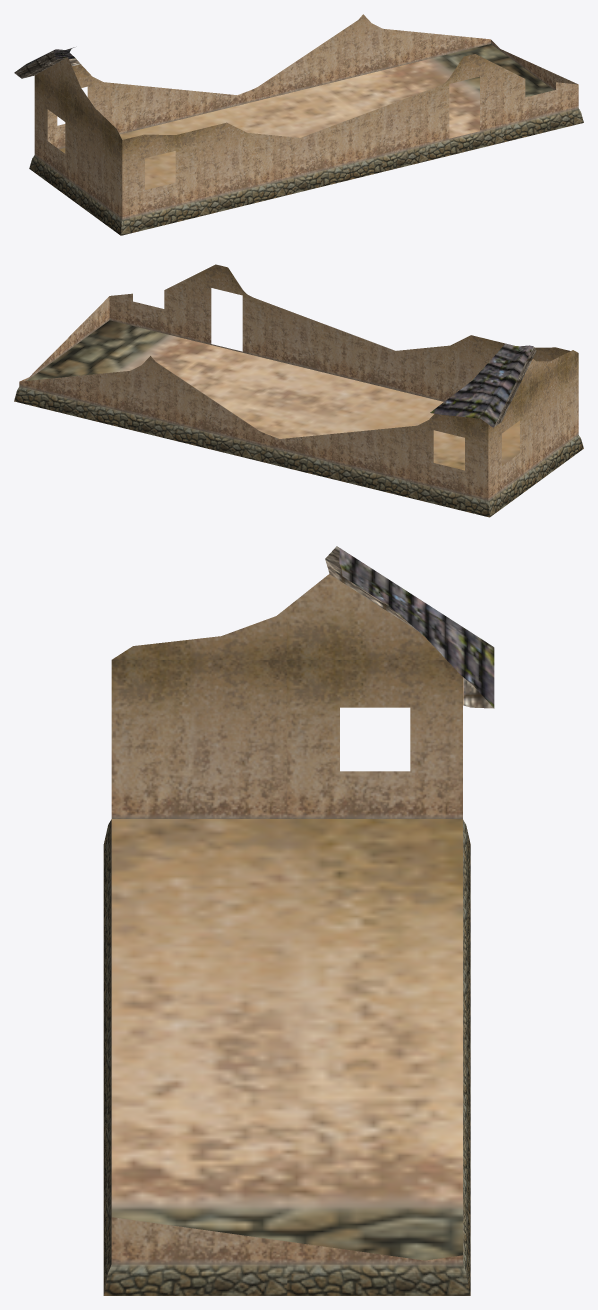
File: s44_b_house_2_3_destroyed_2.dae
3 renders of one model, top to bottom at view 1: azimuth 30°, elevation 25°; view 2: azimuth 150°, elevation 25°; view 3: azimuth 270°, elevation 25°, orthographic. The views are drawn at different scales.
Visible parts, largest first — view 1: s44_b_house_1_3; view 2: s44_b_house_1_3; view 3: s44_b_house_1_3.
Boxes of the visible parts, x1=… form: s44_b_house_1_3: x1=14, y1=14, x2=583, y2=235; s44_b_house_1_3: x1=14, y1=264, x2=583, y2=517; s44_b_house_1_3: x1=103, y1=546, x2=494, y2=1295.
Bounding box in the file's own units: 149 × 53.33 × 43.73.
1 material, 1 textured.
